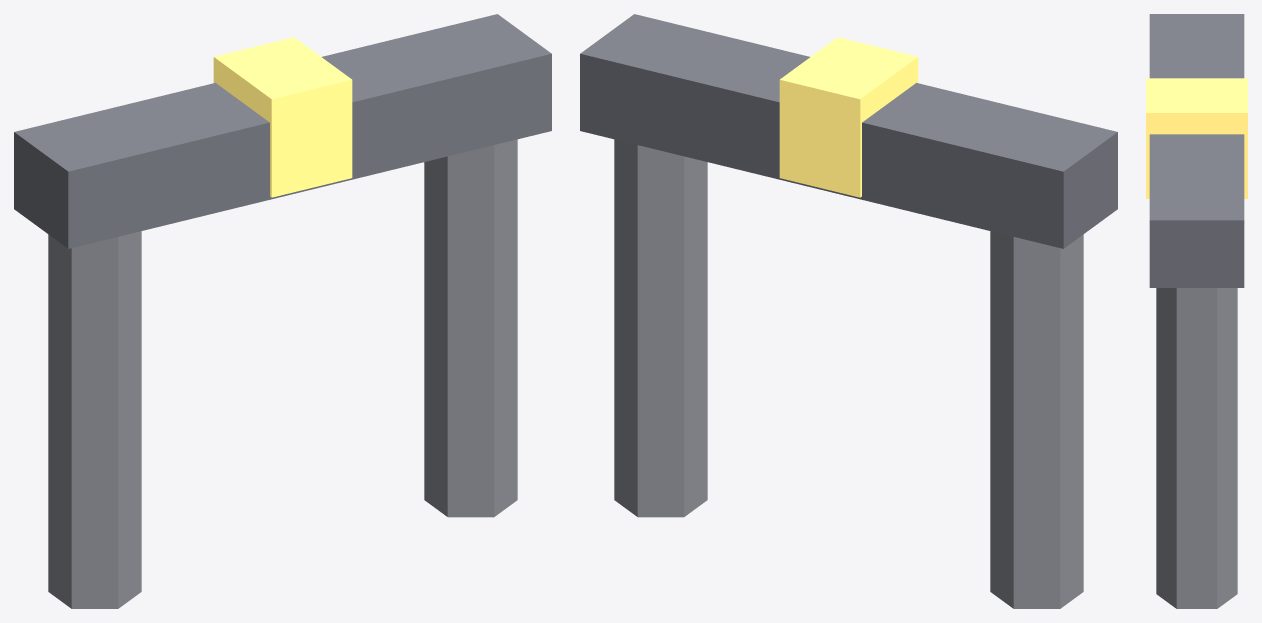
Rendered from dungeon_arch.glb.
3 renders of one model, left to right at view 1: azimuth 30°, elevation 25°; view 2: azimuth 150°, elevation 25°; view 3: azimuth 270°, elevation 25°, orthographic. The views are drawn at different scales.
Parts seen in each view (by area): view 1: ArchLeft; view 2: ArchLeft; view 3: ArchLeft.
Part boxes in pixels (x1,y1,x2,y2): ArchLeft: (14,14,551,608); ArchLeft: (580,14,1117,608); ArchLeft: (1146,14,1247,608).
Bounding box in the file's own units: 3.6 × 3.4 × 0.75.
